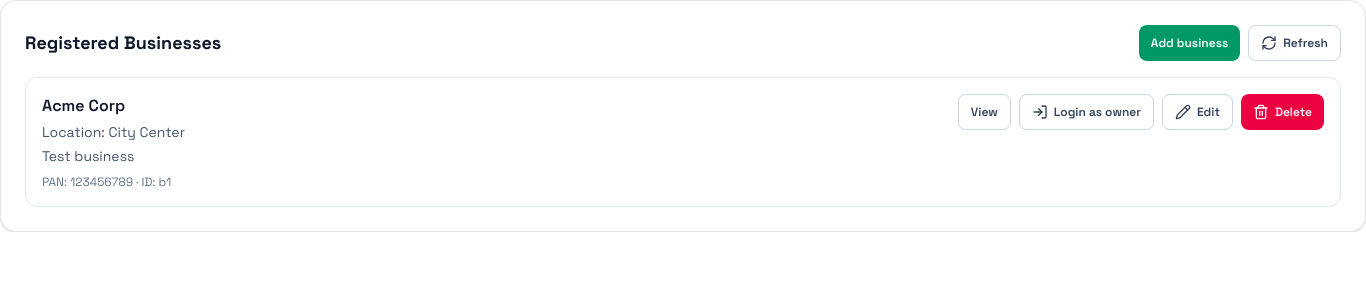
BusinessesPage › Login as owner shows impersonation failure message
The width and height of the screenshot is (1366, 285).
Expected: the text "Acme Corp" is shown, [42,95,125,116]
Click the button "Login as owner" at (1086, 112), box [1019,94,1154,130]
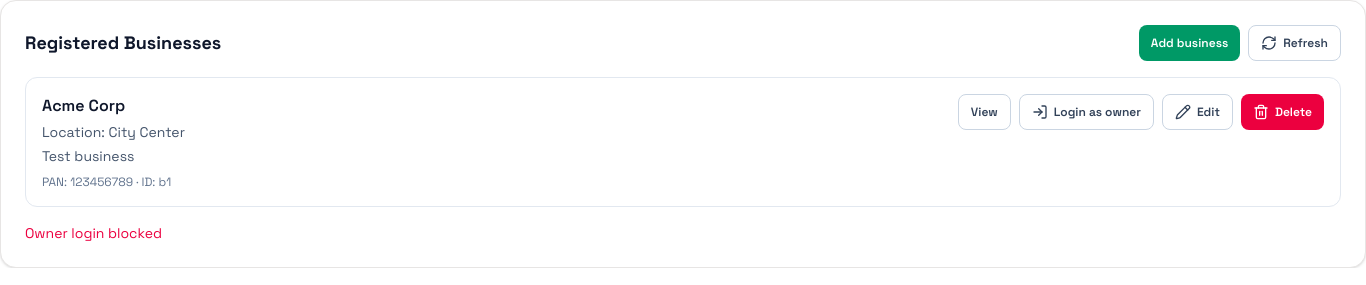
Now the text "Owner login blocked" is shown, box [25,224,162,242]
